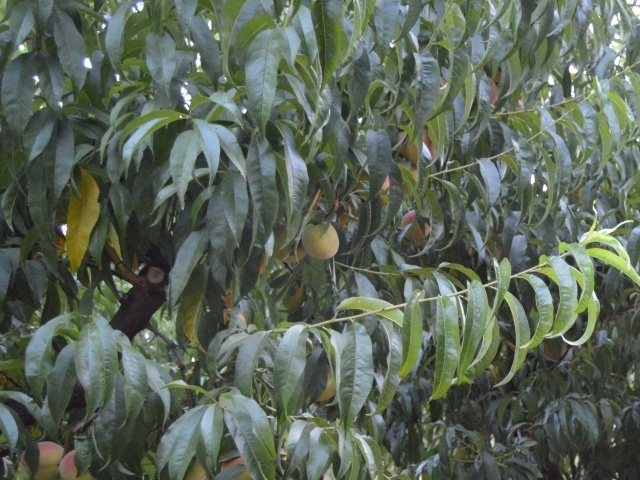peach: (389, 122, 439, 166), (17, 438, 68, 478), (298, 218, 341, 262), (396, 206, 435, 243), (55, 448, 85, 480)
